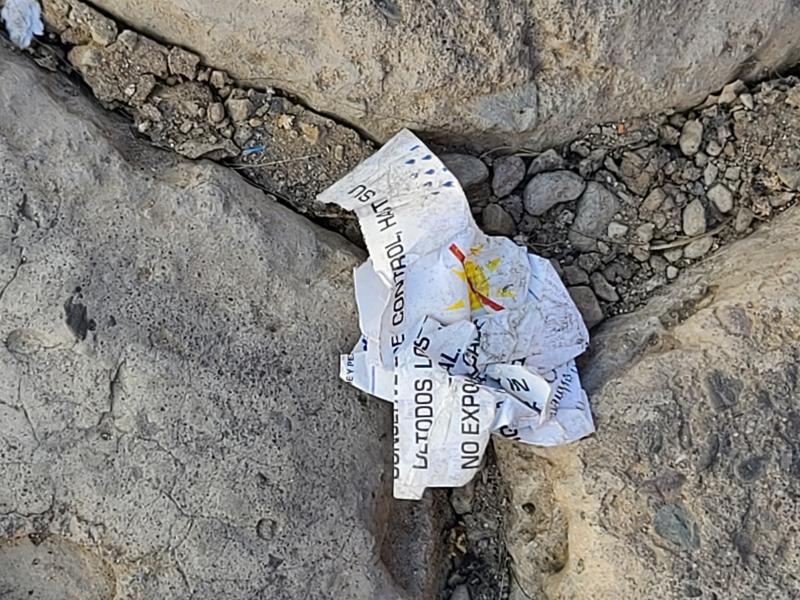papel: (316, 130, 595, 503)
